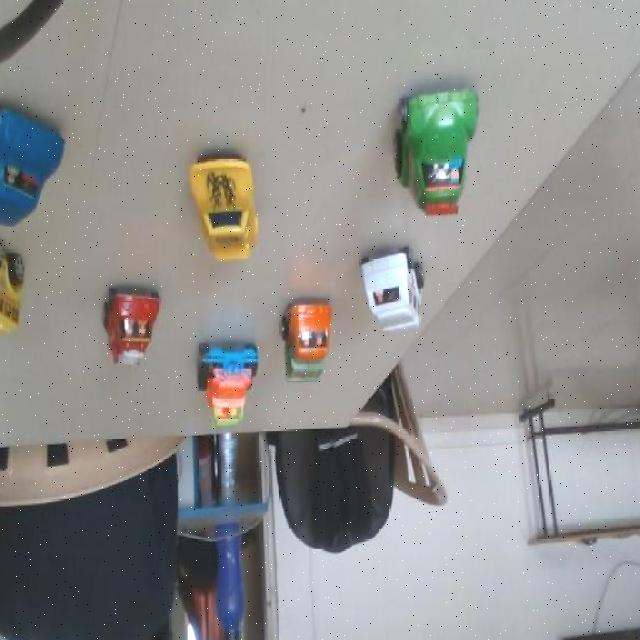car: (346, 11, 556, 262), (151, 123, 315, 273), (344, 216, 458, 356), (179, 334, 263, 444), (276, 279, 346, 402), (0, 103, 67, 225), (103, 274, 170, 369), (0, 235, 41, 334)
